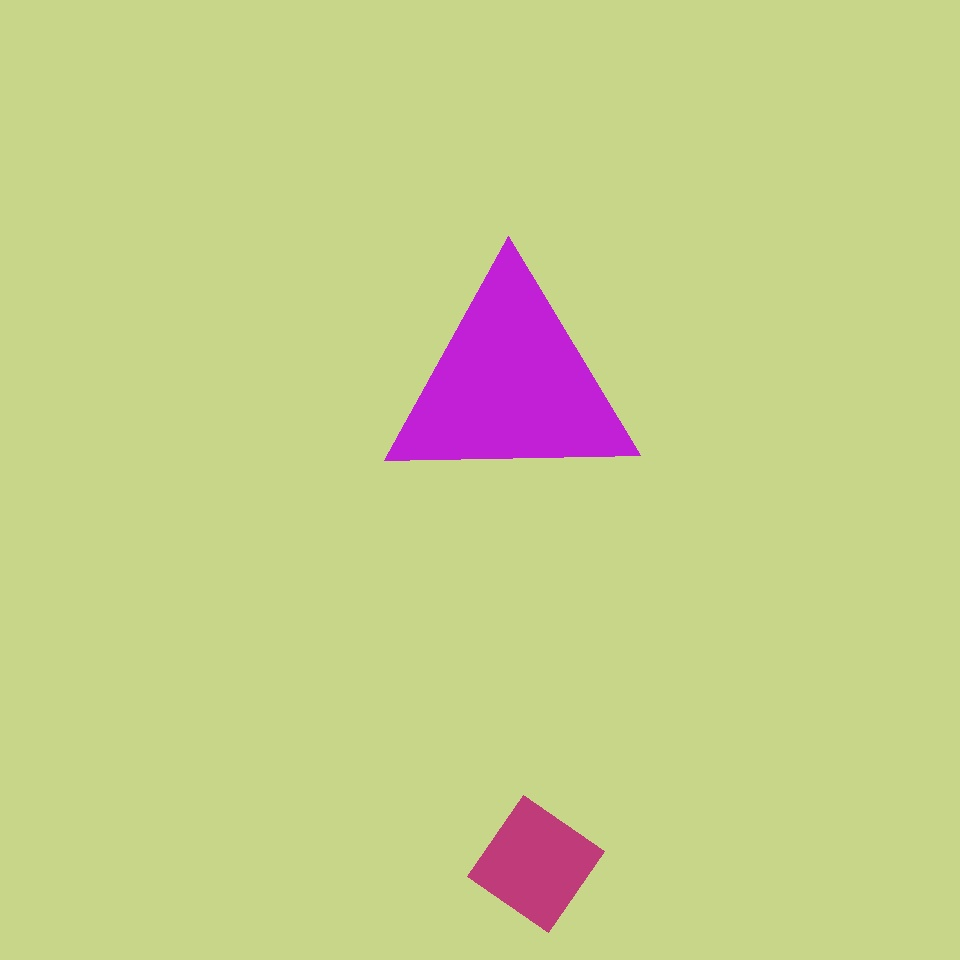circle: (383, 272, 639, 496), (38, 79, 257, 309), (612, 728, 767, 862)
square: (468, 796, 604, 933)
triangle: (89, 128, 433, 471)
